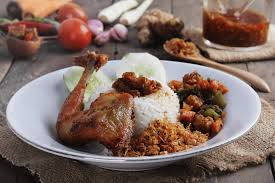Ayam goreng: (57, 46, 136, 154)
Nasi putih: (137, 74, 179, 136)
